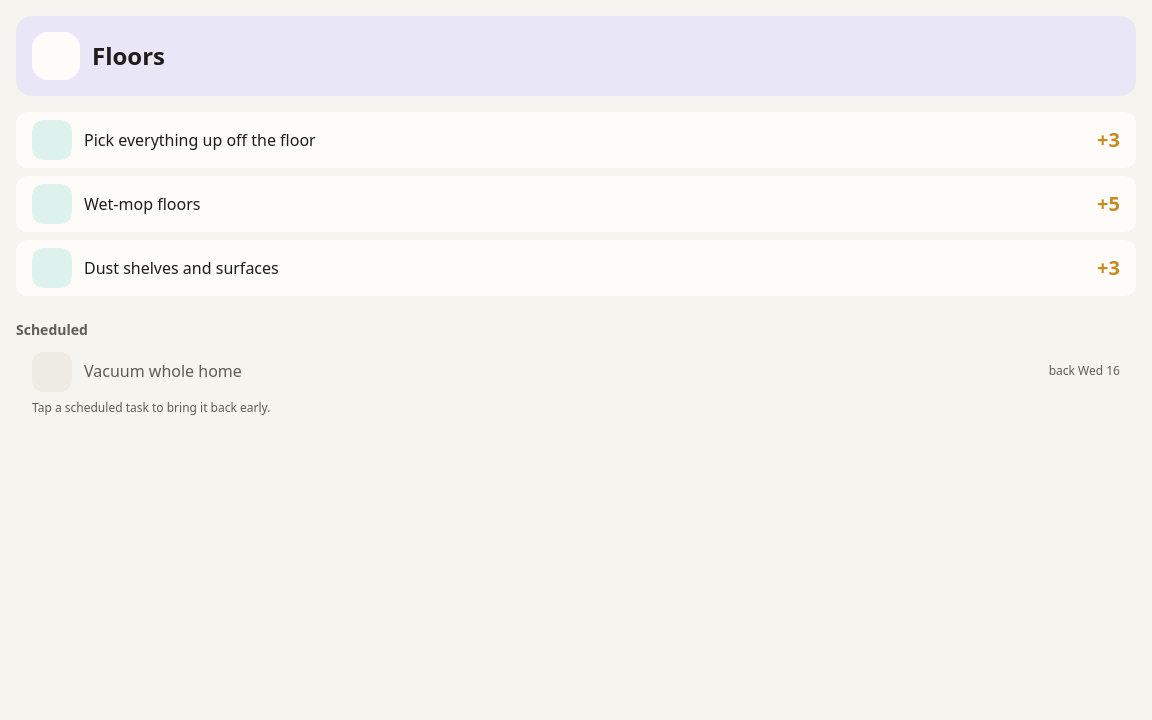
Test case: CategoryScreen › an away task leaves the main list, shows in the Scheduled fold with a back label, and tapping it unschedules and toasts
Click the button with test id "scheduled-row": (52, 372) [16,348,1136,396]
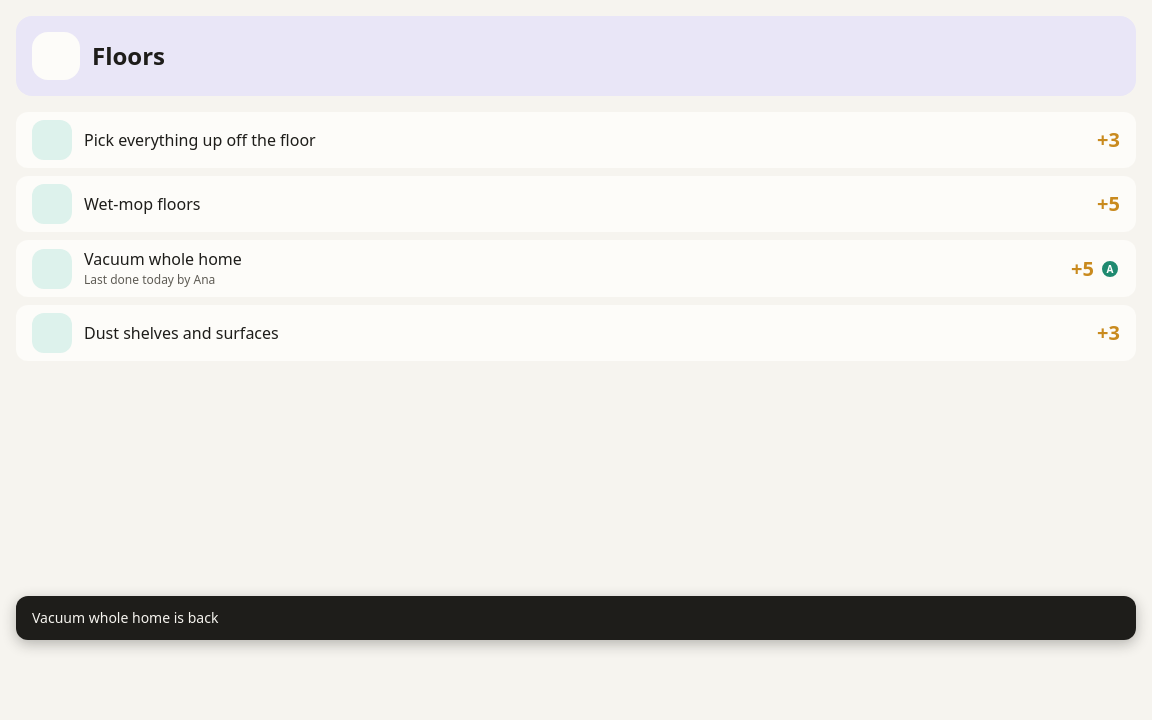
Expected: the message "Vacuum whole home is back" is shown, [16,596,1136,640]
